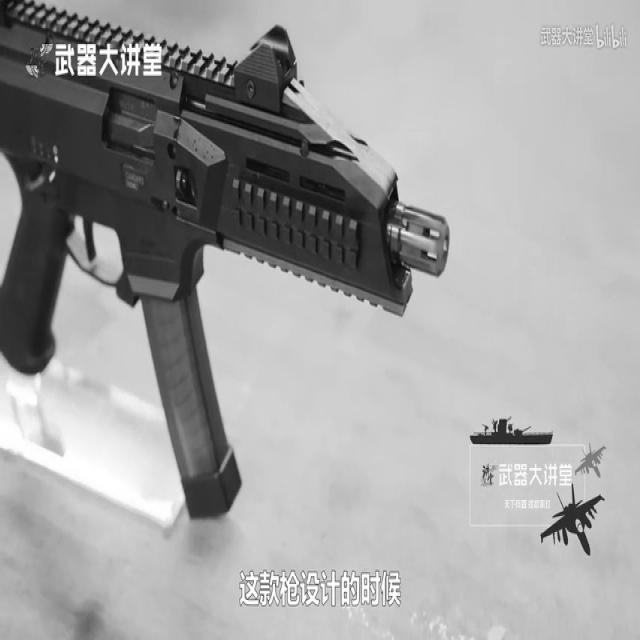Sub-machine-gun: (0, 0, 458, 548)
